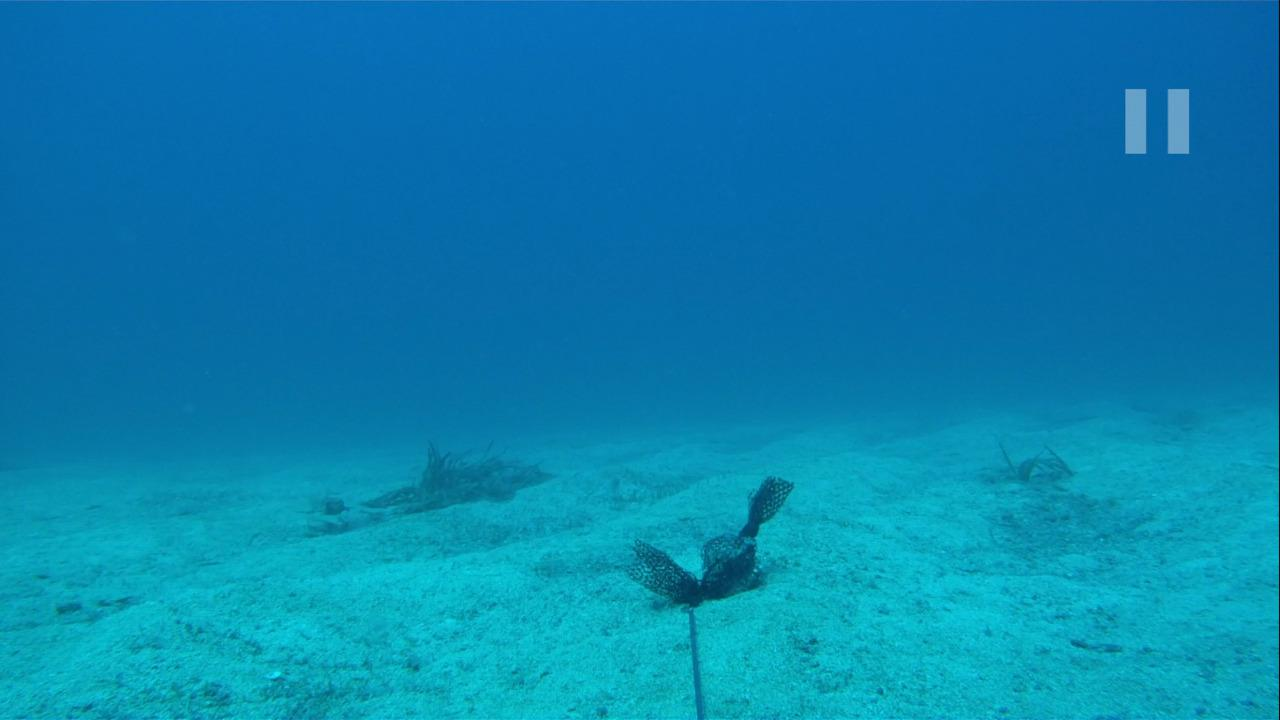dactylopterus: (296, 489, 357, 531)
